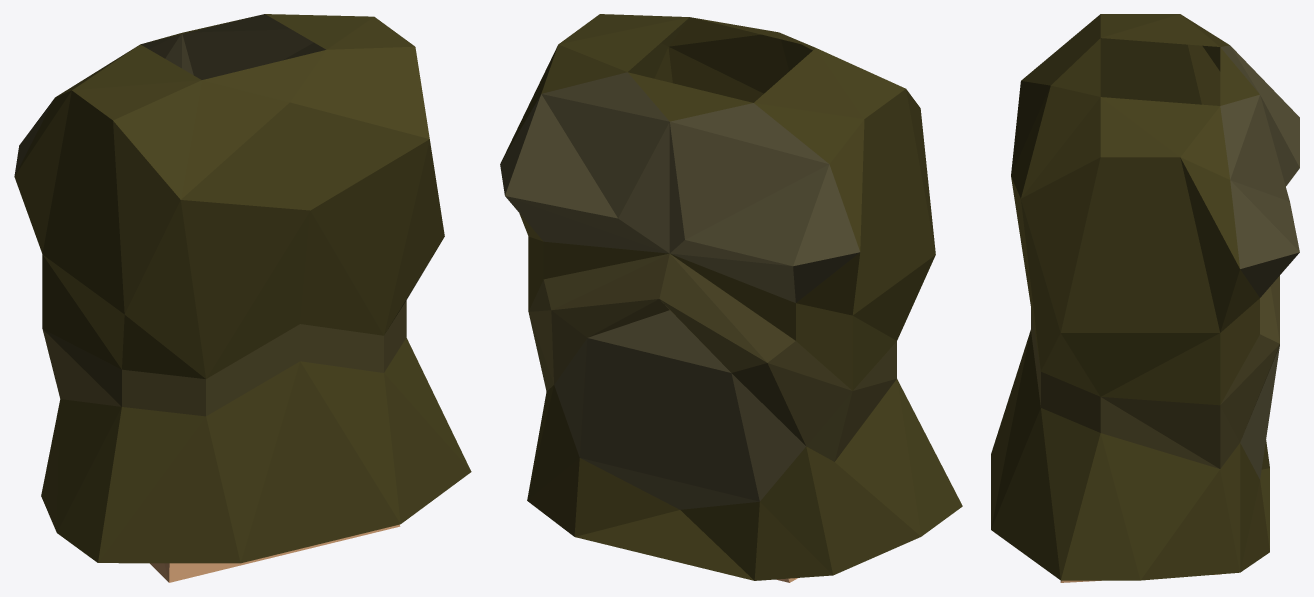
Rendered from npc_world_tower_archer_2_2.obj.
3 views of the same model, side by side, from view 1: azimuth 30°, elevation 25°; view 2: azimuth 150°, elevation 25°; view 3: azimuth 270°, elevation 25° (orthographic). The views are drawn at different scales.
Bounding box in the file's own units: 0.3281 × 0.3984 × 0.2422.
